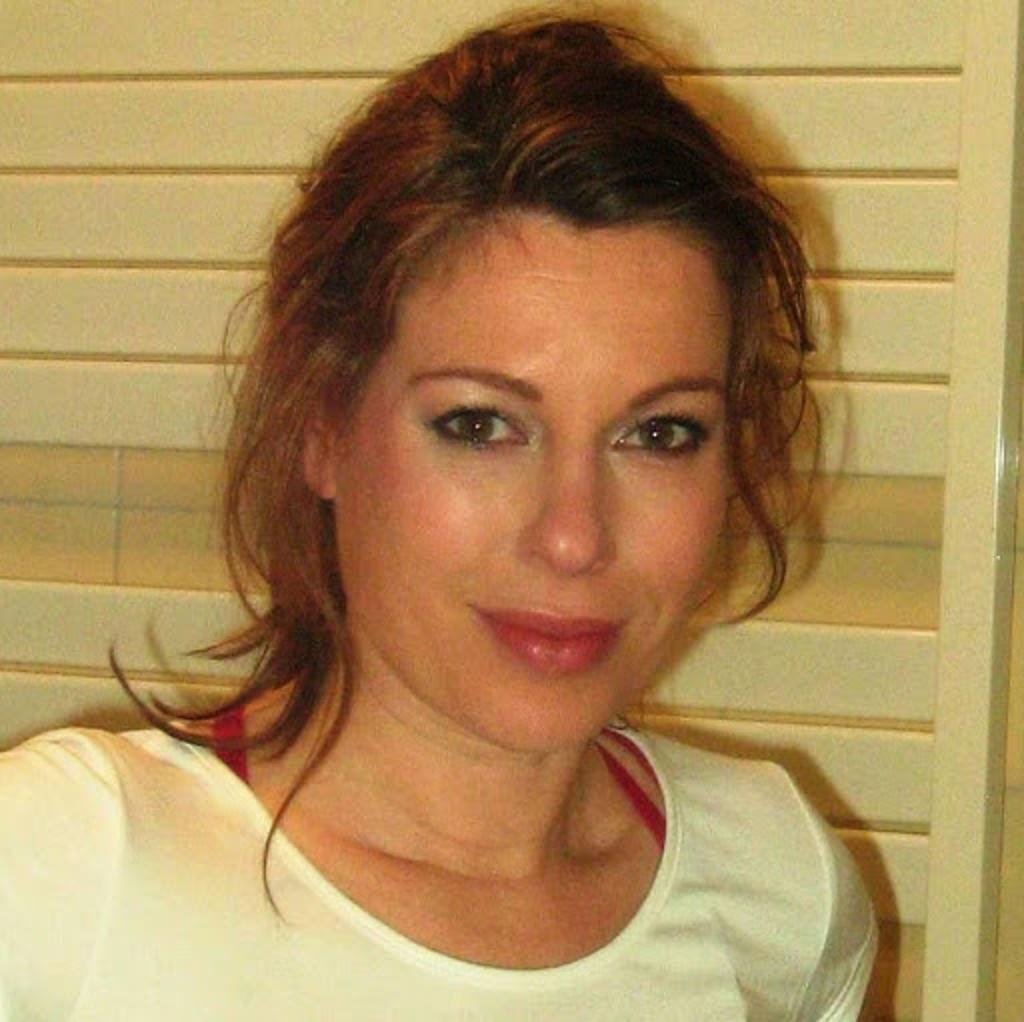face: (334, 208, 742, 750)
